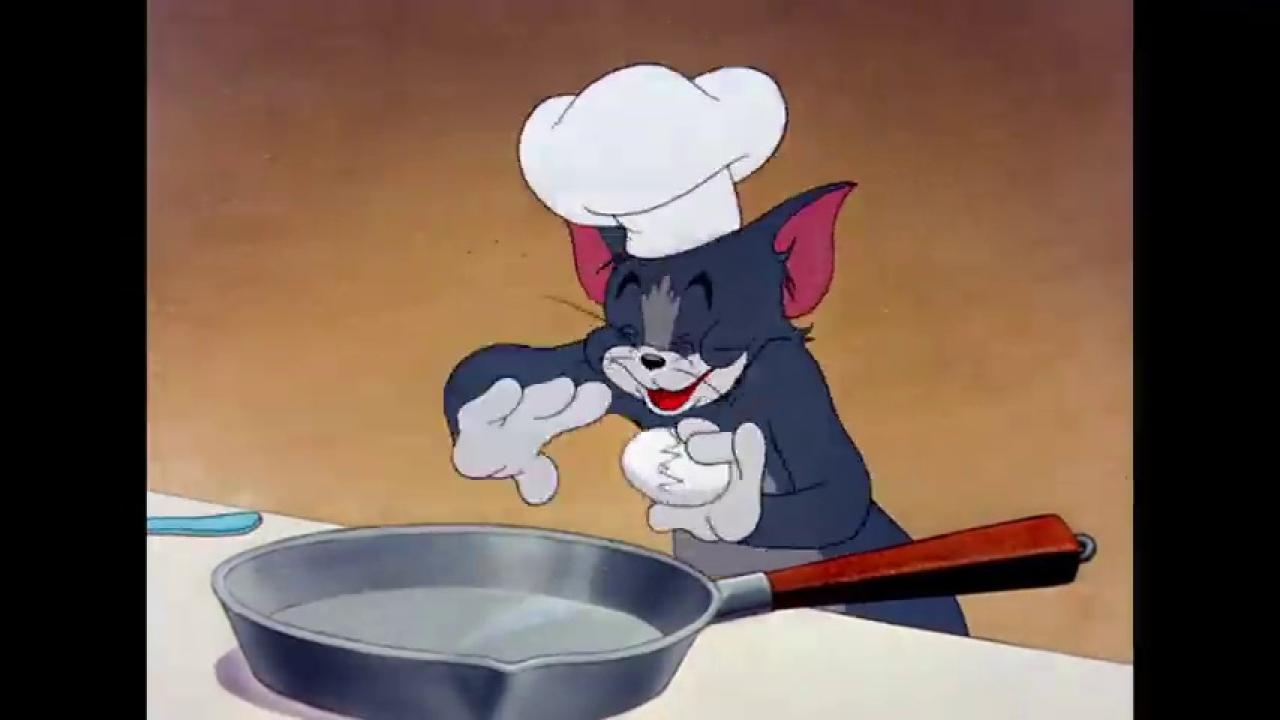Tom: (444, 180, 971, 638)
